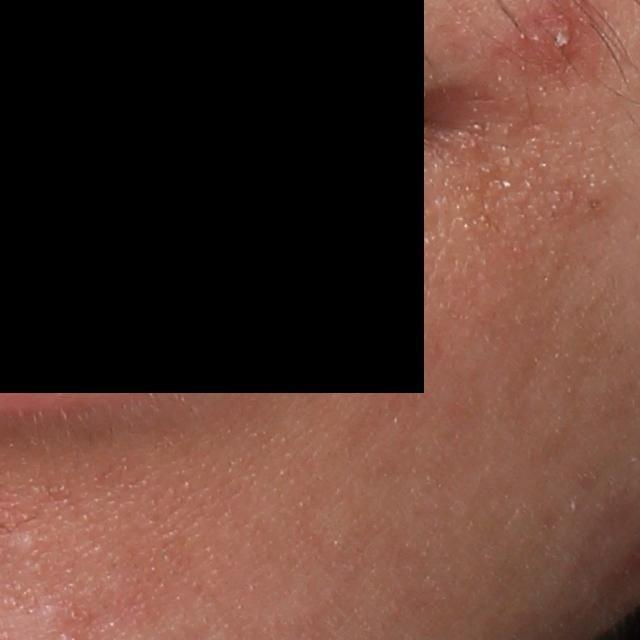comedo: (582, 194, 611, 218)
